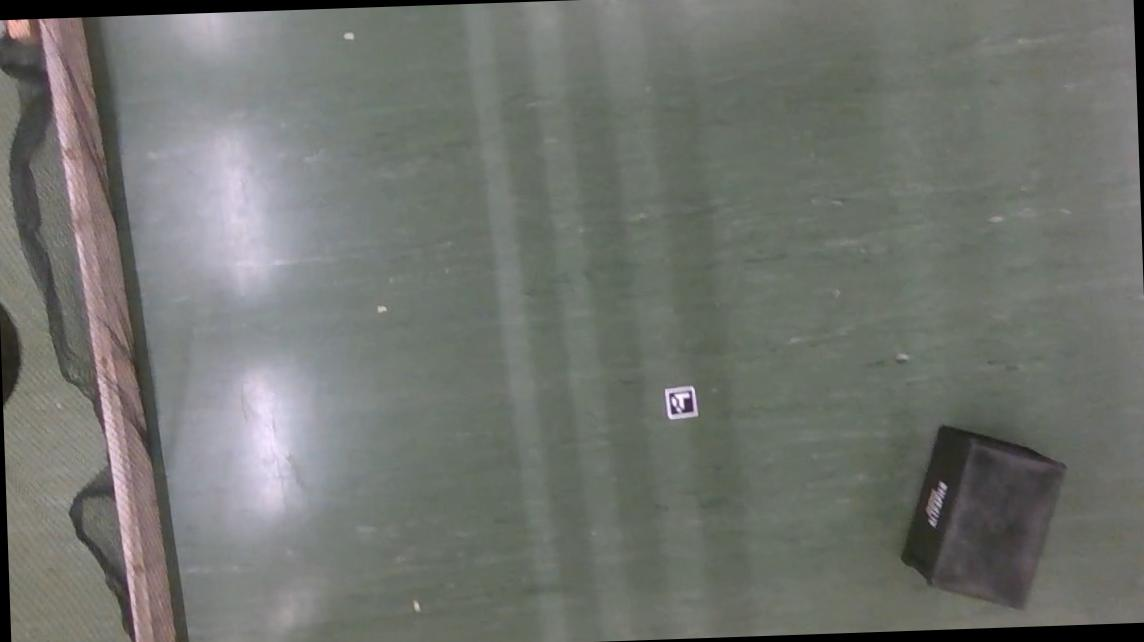rako: (898, 422, 1070, 614)
